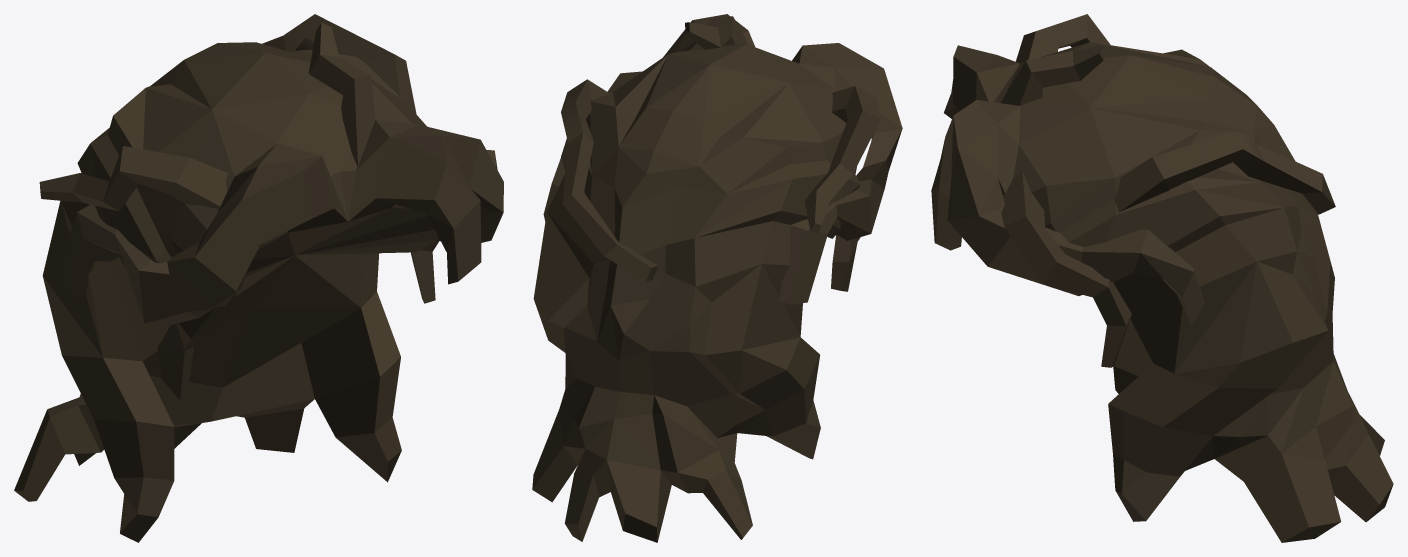
The model's file is SM_Chr_Attach_Hair_Female_01.fbx.
3 views of the same model, side by side, from view 1: azimuth 30°, elevation 25°; view 2: azimuth 150°, elevation 25°; view 3: azimuth 270°, elevation 25° (orthographic). The views are drawn at different scales.
Parts seen in each view (by area): view 1: SM_Chr_Attach_Hair_Female_01; view 2: SM_Chr_Attach_Hair_Female_01; view 3: SM_Chr_Attach_Hair_Female_01.
Part boxes in pixels (<box>): SM_Chr_Attach_Hair_Female_01: <box>14,14,503,542</box>; SM_Chr_Attach_Hair_Female_01: <box>532,14,902,542</box>; SM_Chr_Attach_Hair_Female_01: <box>931,14,1393,542</box>.
Bounding box in the file's own units: 31.97 × 43.92 × 38.54.
